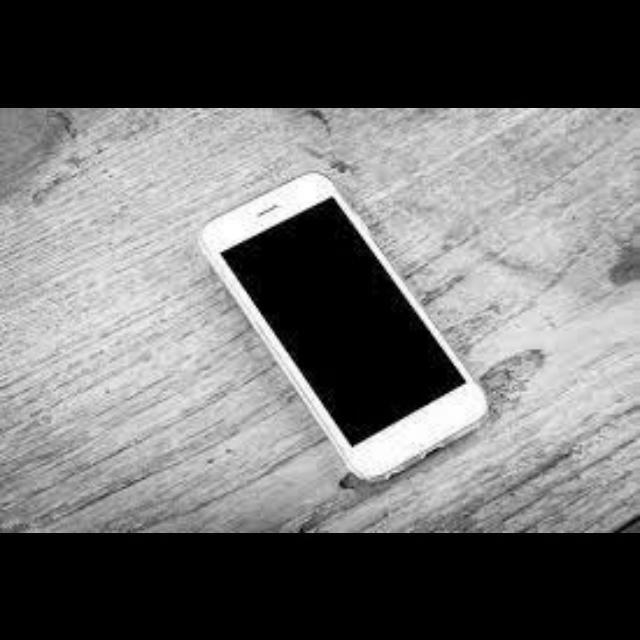fake: (218, 190, 474, 445)
